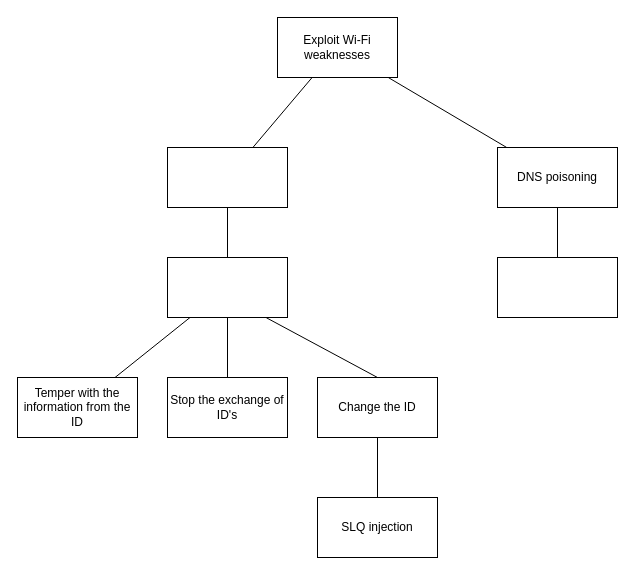
Some shapes in this 635 by 575 pixel diagram are drawn without their labels. Each missing label, with the box of its shape:
Man in the middle attack: (166, 256, 288, 318)
Send to own server instead of offical server: (496, 256, 618, 318)
Set up roque acces point: (166, 146, 288, 208)
